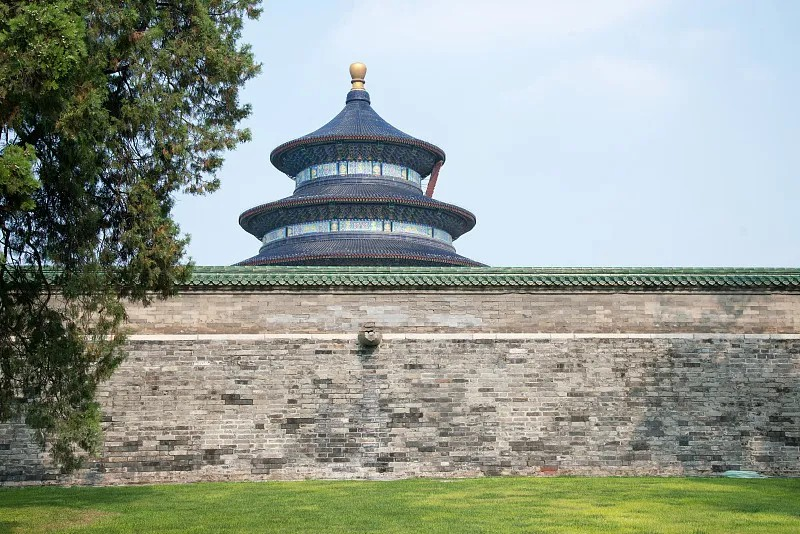Heaven: (231, 61, 490, 267)
